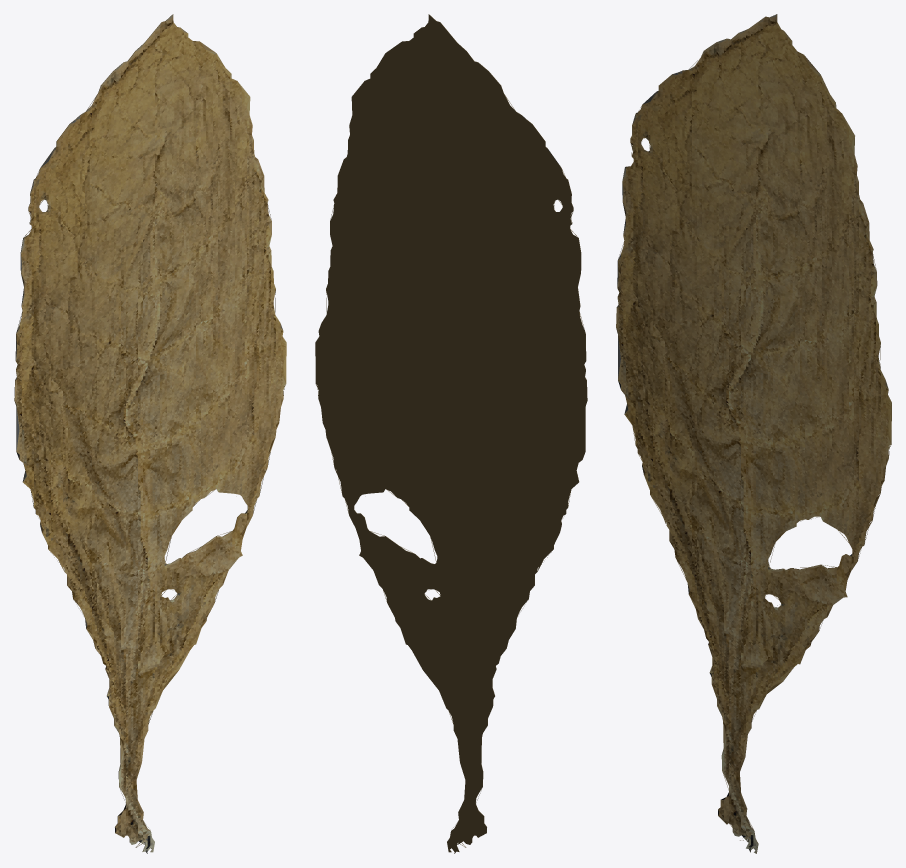
The model's file is 20260911_155522987_iOS.obj.
The picture shows the model from 3 angles, left to right: view 1: azimuth 30°, elevation 25°; view 2: azimuth 150°, elevation 25°; view 3: azimuth 330°, elevation 25°; orthographic projection.
Visible parts, largest first — view 1: 20260911_155522987_iOS; view 2: 20260911_155522987_iOS; view 3: 20260911_155522987_iOS.
Boxes of the visible parts, x1,y1,x2,y2 form: 20260911_155522987_iOS: (14, 14, 286, 853); 20260911_155522987_iOS: (315, 14, 587, 853); 20260911_155522987_iOS: (616, 14, 891, 853).
Size of the model in its own units: 169 by 494 by 0.3.
